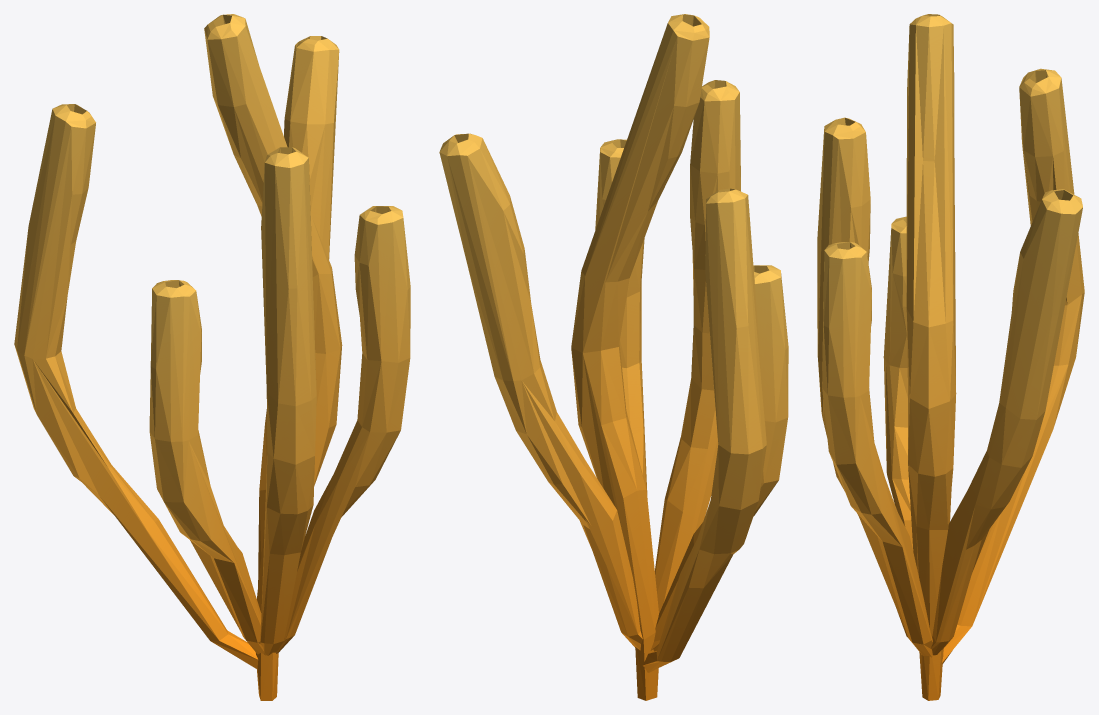
The model's file is SM_Spongia_15.fbx.
3 renders of one model, left to right at view 1: azimuth 30°, elevation 25°; view 2: azimuth 150°, elevation 25°; view 3: azimuth 270°, elevation 25°, orthographic. The views are drawn at different scales.
Visible parts, largest first — view 1: Spongia_15; view 2: Spongia_15; view 3: Spongia_15.
Part boxes in pixels (x1,y1,x2,y2): Spongia_15: (14,14,410,700); Spongia_15: (439,14,788,700); Spongia_15: (817,14,1084,700).
Size of the model in its own units: 73.41 by 152 by 55.33.
